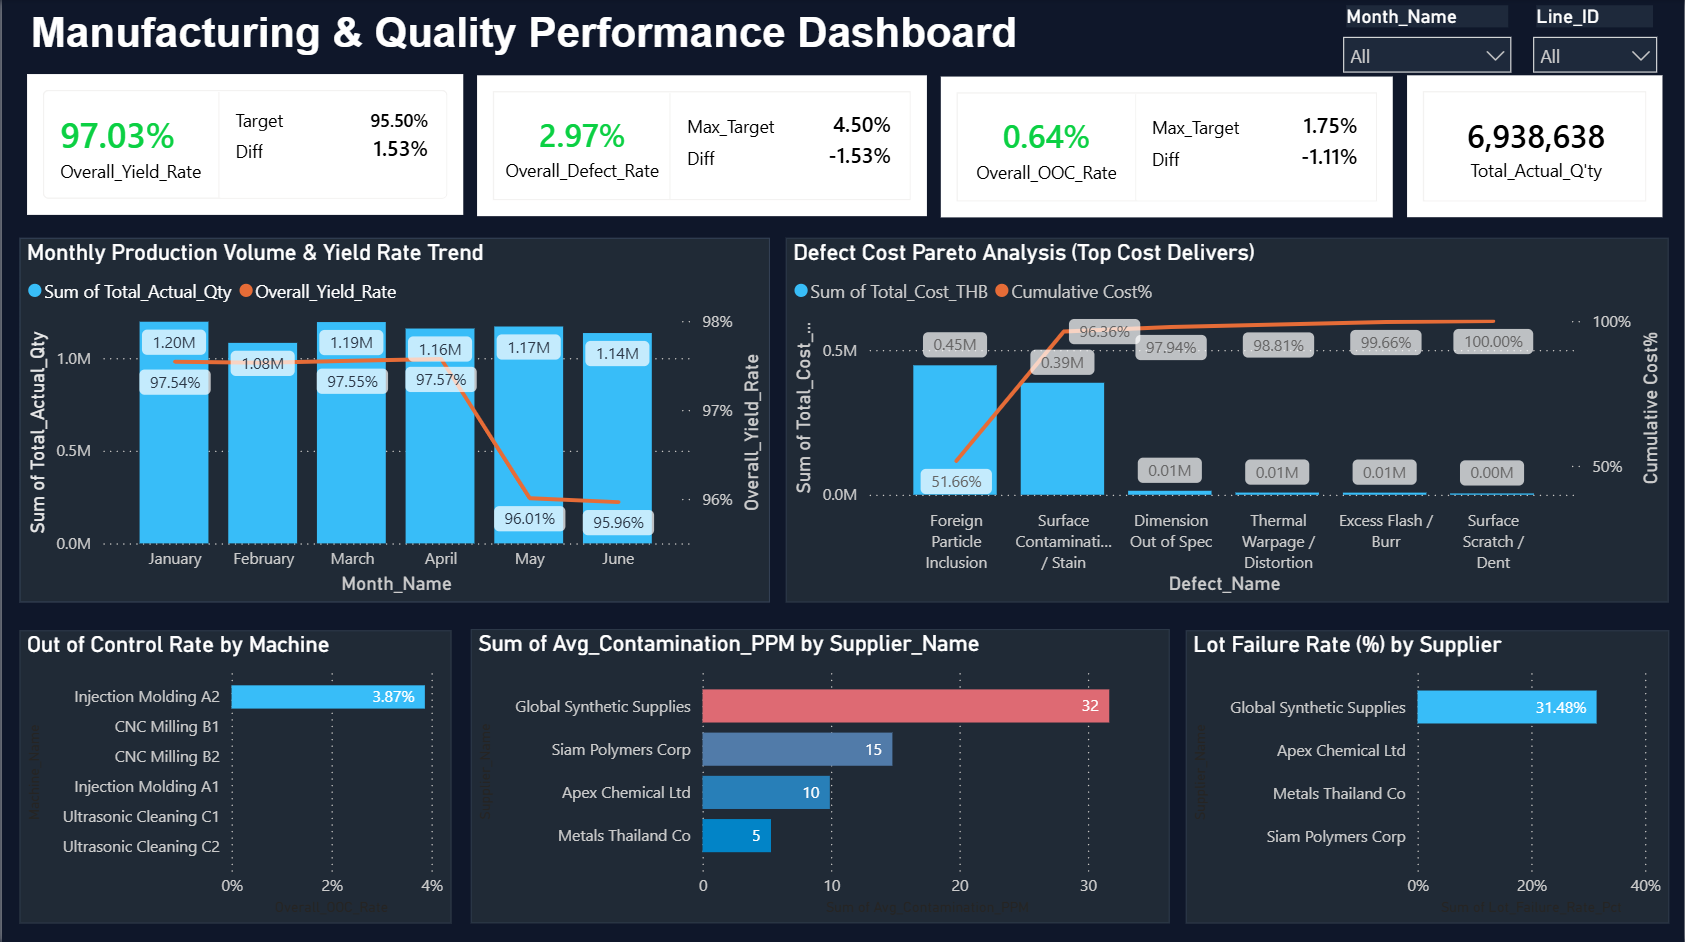

What the dashboard file says about the page in this screenshot:
{"tool":"powerbi","page":{"name":"Page 1","canvas":[1280,720],"ordinal":0},"visuals":[{"type":"slicer","fields":{"Values":["Dim_Line.Line_ID"]},"box":[1154.6,0,114.8,70.2],"z":0},{"type":"slicer","fields":{"Values":["vw_Monthly_Production.Month_Name"]},"box":[1010,0,148.7,69.9],"z":1000},{"type":"textbox","box":[17.1,2.9,818.2,67.5],"z":2000},{"type":"cardVisual","fields":{"Data":["vw_Machine_SPC.Overall_OOC_Rate"]},"box":[709.7,54.2,354.9,117],"z":2500},{"type":"cardVisual","fields":{"Data":["vw_Monthly_Production.Overall_Defect_rate"]},"box":[356.8,53.3,353,118],"z":3000},{"type":"cardVisual","fields":{"Data":["vw_Monthly_Production.Total_Actual_Q'ty"]},"box":[1064.6,53.3,204.5,118.9],"z":4000},{"type":"lineClusteredColumnComboChart","title":"Monthly Production Volume & Yield Rate Trend","fields":{"Category":["vw_Monthly_Production.Month_Name"],"Y":["Sum(vw_Monthly_Production.Total_Actual_Qty)"],"Y2":["vw_Monthly_Production.Overall_Yield_Rate"]},"box":[13.3,181.8,571,277.5],"z":6000},{"type":"lineClusteredColumnComboChart","title":"Defect Cost Pareto Analysis (Top Cost Delivers)","fields":{"Category":["vw_Pareto_Defects.Defect_Name"],"Y":["Sum(vw_Pareto_Defects.Total_Cost_THB)"],"Y2":["Sum(vw_Pareto_Defects.Cumulative_Cost_Pct)"]},"box":[596.7,181.8,672.1,277.5],"z":7000},{"type":"clusteredBarChart","title":"Out of Control Rate by Machine","fields":{"Category":["vw_Machine_SPC.Machine_Name"],"Y":["vw_Machine_SPC.Overall_OOC_Rate"]},"box":[13.3,480.6,329,223.4],"z":8000},{"type":"clusteredBarChart","fields":{"Category":["vw_Supplier_Contamination.Supplier_Name"],"Y":["Sum(vw_Supplier_Contamination.Avg_Contamination_PPM)"]},"box":[356.5,479.7,532,224.3],"z":9000},{"type":"barChart","title":"Lot Failure Rate (%) by Supplier","fields":{"Category":["vw_Supplier_Contamination.Supplier_Name"],"Y":["Sum(vw_Supplier_Contamination.Lot_Failure_Rate_Pct)"]},"box":[900.9,480.6,368,223.4],"z":10000},{"type":"cardVisual","fields":{"Data":["vw_Monthly_Production.Overall_Yield_Rate"]},"box":[14.3,52.3,342.5,117],"z":11000}]}

Visuals, with their boxes in screenshot pixels (x1, y1, x2, y2), scaled from the page's 1280x720 canvas onto the 1685x942 screenshot:
slicer - Dim_Line.Line_ID: l=1520, t=0, r=1671, b=92
slicer - vw_Monthly_Production.Month_Name: l=1330, t=0, r=1525, b=91
textbox: l=23, t=4, r=1100, b=92
cardVisual - vw_Machine_SPC.Overall_OOC_Rate: l=934, t=71, r=1401, b=224
cardVisual - vw_Monthly_Production.Overall_Defect_rate: l=470, t=70, r=934, b=224
cardVisual - vw_Monthly_Production.Total_Actual_Q'ty: l=1401, t=70, r=1671, b=225
"Monthly Production Volume & Yield Rate Trend" lineClusteredColumnComboChart: l=18, t=238, r=769, b=601
"Defect Cost Pareto Analysis (Top Cost Delivers)" lineClusteredColumnComboChart: l=785, t=238, r=1670, b=601
"Out of Control Rate by Machine" clusteredBarChart: l=18, t=629, r=451, b=921
clusteredBarChart - vw_Supplier_Contamination.Supplier_Name x Sum(vw_Supplier_Contamination.Avg_Contamination_PPM): l=469, t=628, r=1170, b=921
"Lot Failure Rate (%) by Supplier" barChart: l=1186, t=629, r=1670, b=921
cardVisual - vw_Monthly_Production.Overall_Yield_Rate: l=19, t=68, r=470, b=222
